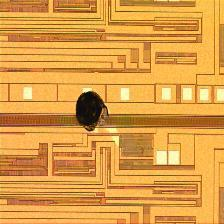PARTICLE: (69, 91, 113, 135)
